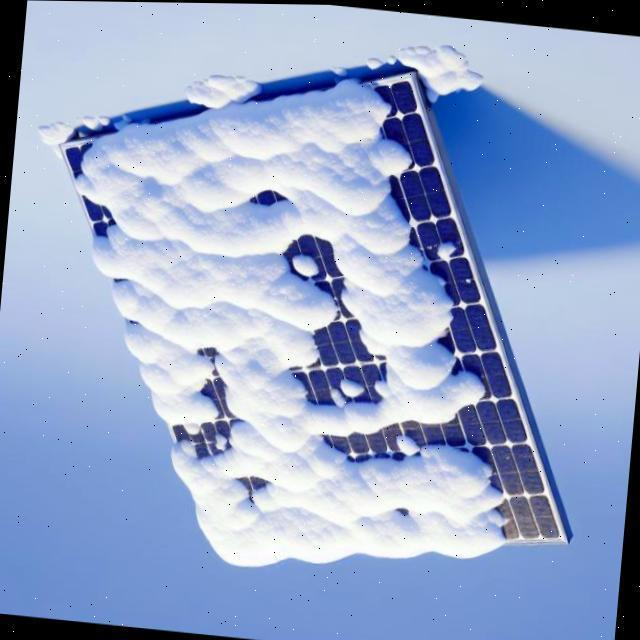Anomaly Solar Panel: (61, 28, 581, 640)
Snow: (65, 63, 527, 628), (291, 255, 321, 278), (435, 237, 459, 262)
